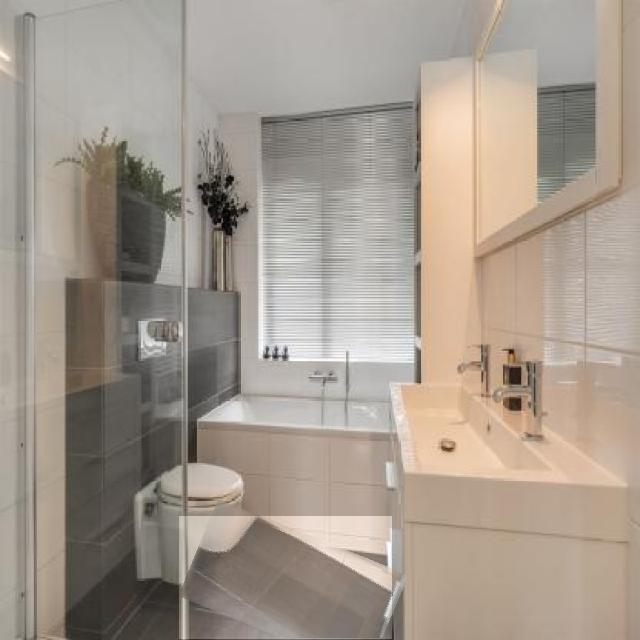floor: (180, 516, 392, 639)
